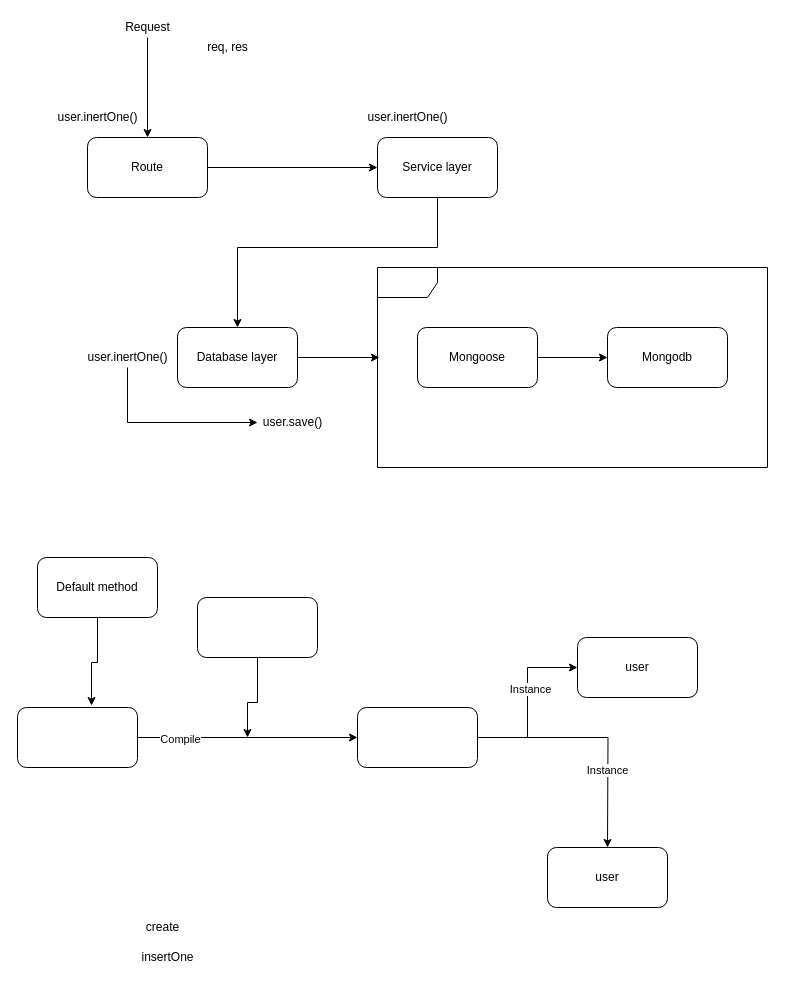
The diagram is 785 pixels wide and 984 high, and some of its shapes have lost their labels. The centre of each missing label's shape, as x and y in pixels:
Database: the point at 572,367
method/class function: the point at 257,627
Model: the point at 417,737
Schema: the point at 77,737
